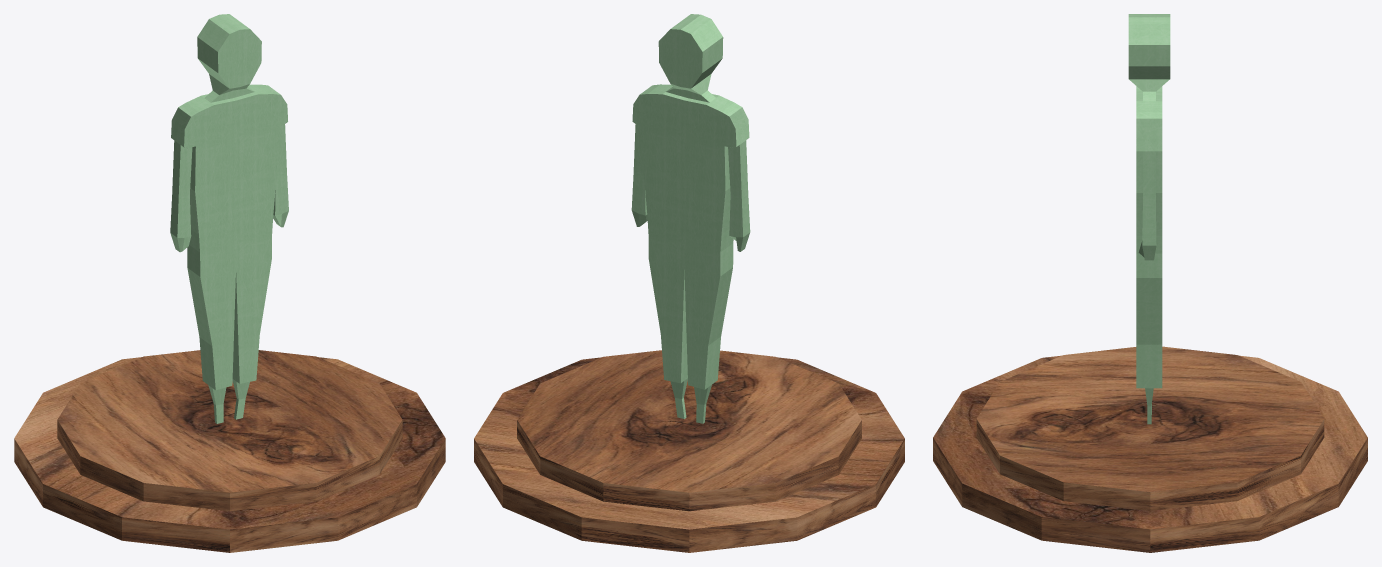
The model's file is Bonecao_player.glb.
3 views of the same model, side by side, from view 1: azimuth 30°, elevation 25°; view 2: azimuth 150°, elevation 25°; view 3: azimuth 270°, elevation 25° (orthographic).
Visible parts, largest first — view 1: Cylinder.001, Cube, Cylinder; view 2: Cylinder.001, Cube, Cylinder; view 3: Cylinder.001, Cylinder, Cube.
Part boxes in pixels (box(x1,y1,x2,y2)): Cylinder.001: box(57, 350, 402, 511); Cube: box(170, 14, 288, 423); Cylinder: box(14, 357, 445, 552); Cylinder.001: box(517, 350, 861, 511); Cube: box(631, 14, 750, 423); Cylinder: box(474, 357, 904, 552); Cylinder.001: box(976, 346, 1324, 510); Cylinder: box(933, 355, 1367, 552); Cube: box(1128, 14, 1170, 424).
Size of the model in its own units: 4.43 by 4.98 by 4.43.
3 materials, 3 textured.
